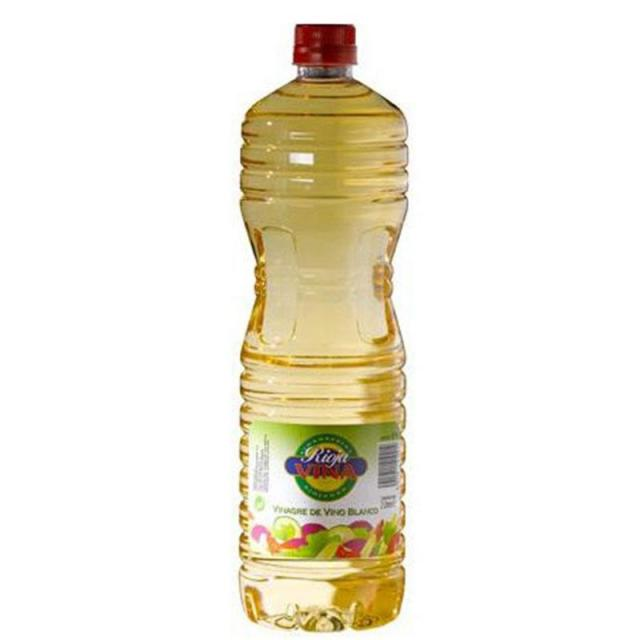plastic_bottle: (214, 20, 443, 636)
